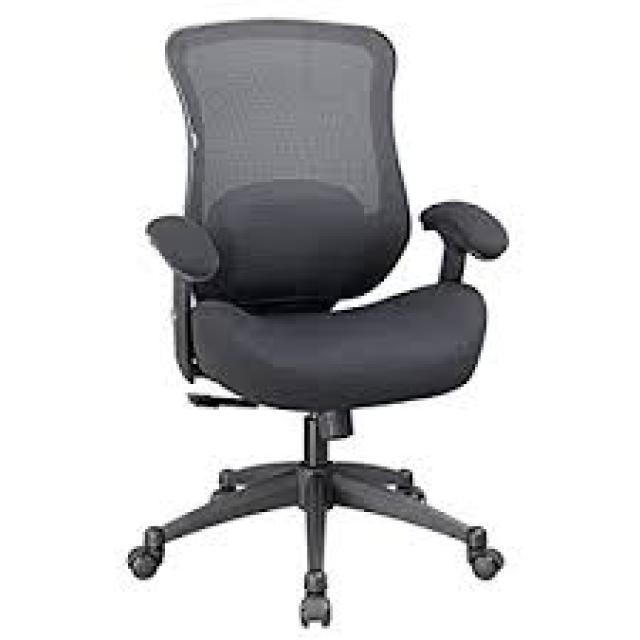chair: (57, 0, 606, 640)
